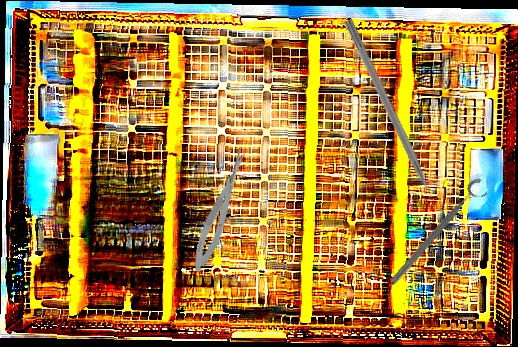Fixation Ring: (386, 175, 493, 293)
Micro Scissor: (186, 144, 256, 276)
Pusher: (341, 18, 441, 212)
